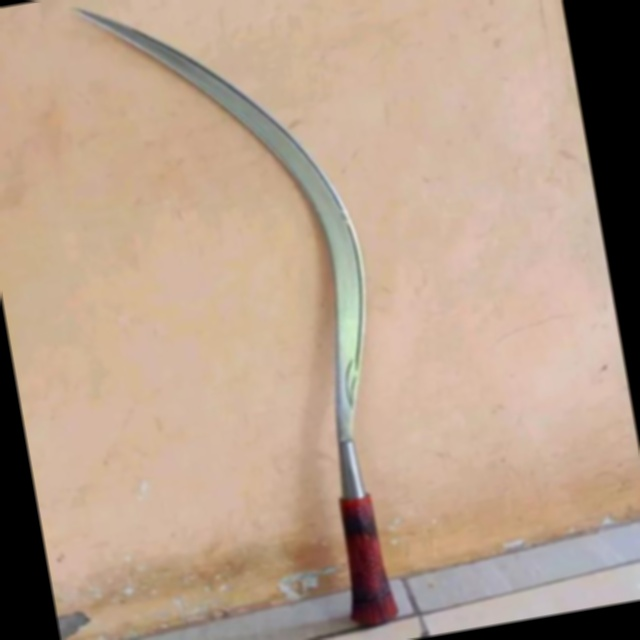Sharp-Object: (65, 0, 427, 640)
